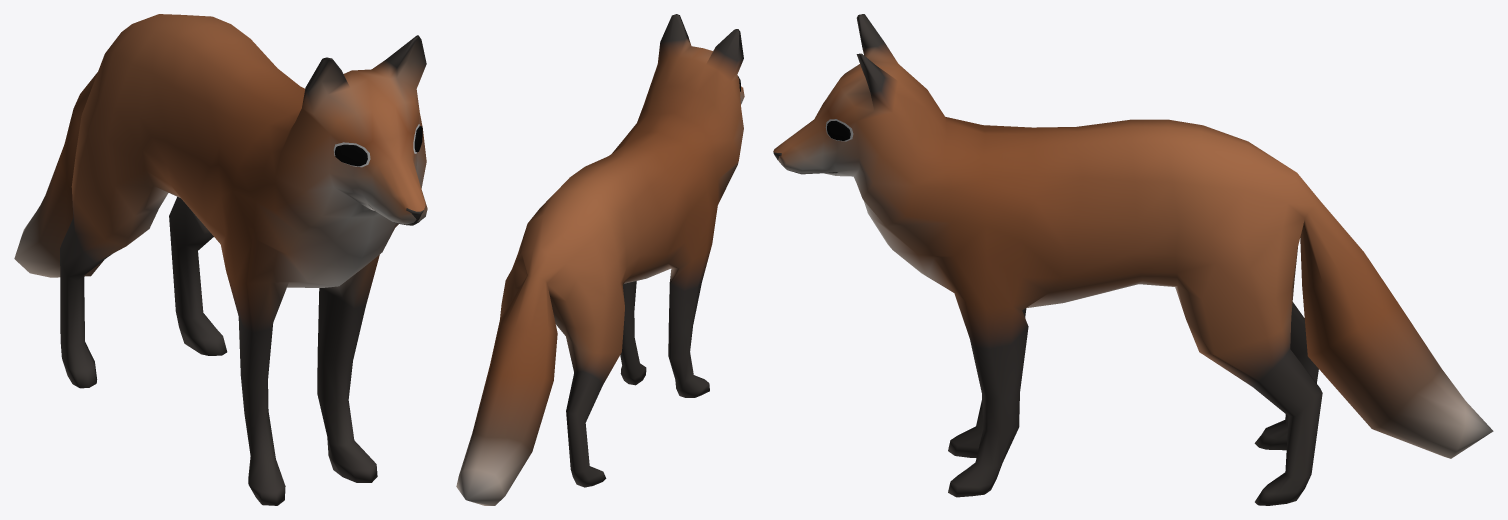
The model's file is animals-animals-redfox_v1.glb.
3 views of the same model, side by side, from view 1: azimuth 30°, elevation 25°; view 2: azimuth 150°, elevation 25°; view 3: azimuth 270°, elevation 25° (orthographic). The views are drawn at different scales.
Visible parts, largest first — view 1: RedFox.001; view 2: RedFox.001; view 3: RedFox.001.
Part boxes in pixels (box(x1,y1,x2,y2)): RedFox.001: box(14, 14, 427, 505); RedFox.001: box(456, 14, 744, 505); RedFox.001: box(773, 14, 1493, 505).
Bounding box in the file's own units: 0.2549 × 0.7835 × 1.17.
